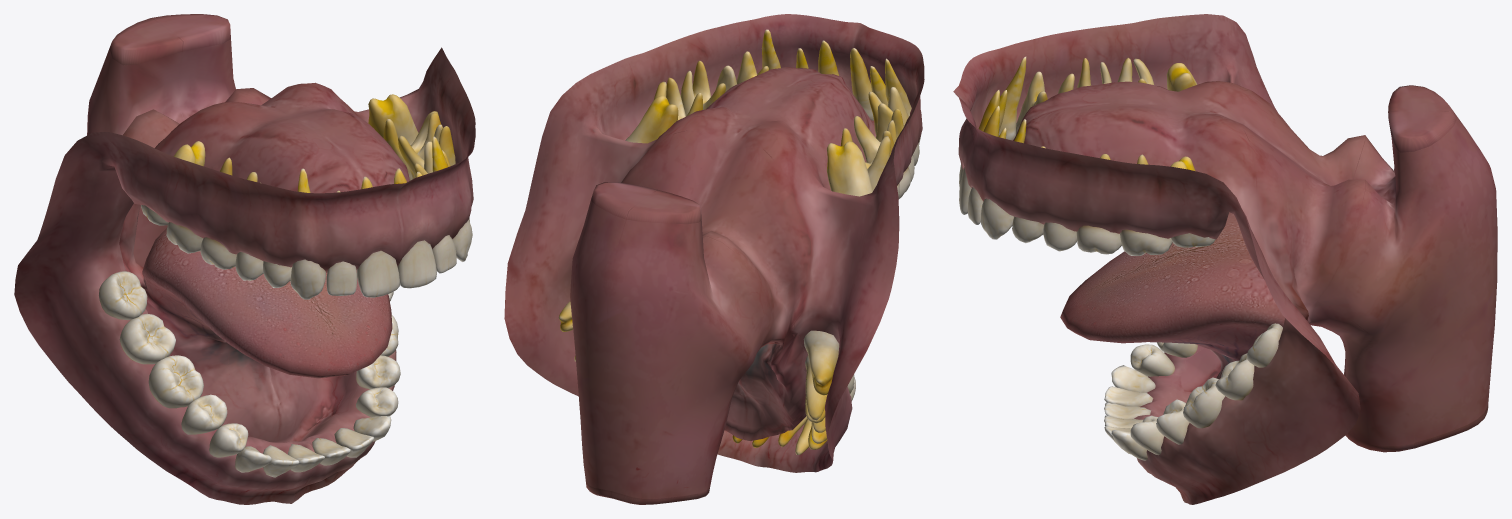
Rendered from boca_para_ortodoncia.glb.
3 views of the same model, side by side, from view 1: azimuth 30°, elevation 25°; view 2: azimuth 150°, elevation 25°; view 3: azimuth 270°, elevation 25° (orthographic). The views are drawn at different scales.
Parts seen in each view (by area): view 1: desirefx.me_002, desirefx.me_001; view 2: desirefx.me_002, desirefx.me_001; view 3: desirefx.me_002, desirefx.me_001.
Boxes of the visible parts, bbox=[...] form: desirefx.me_002: bbox=[14, 14, 475, 504]; desirefx.me_001: bbox=[99, 94, 472, 477]; desirefx.me_002: bbox=[504, 14, 924, 504]; desirefx.me_001: bbox=[558, 29, 921, 454]; desirefx.me_002: bbox=[953, 14, 1497, 504]; desirefx.me_001: bbox=[959, 56, 1282, 460].
Bounding box in the file's own units: 0.0903 × 0.088 × 0.1087.
2 materials, 2 textured.
